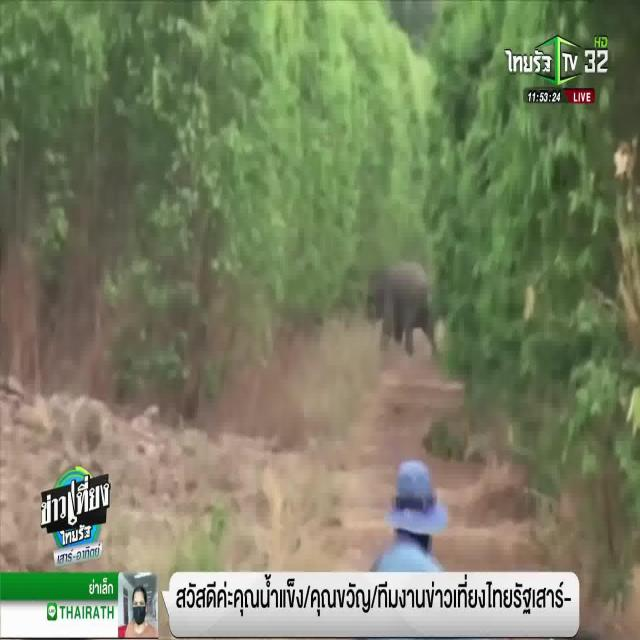Elephant: (378, 260, 431, 338)
